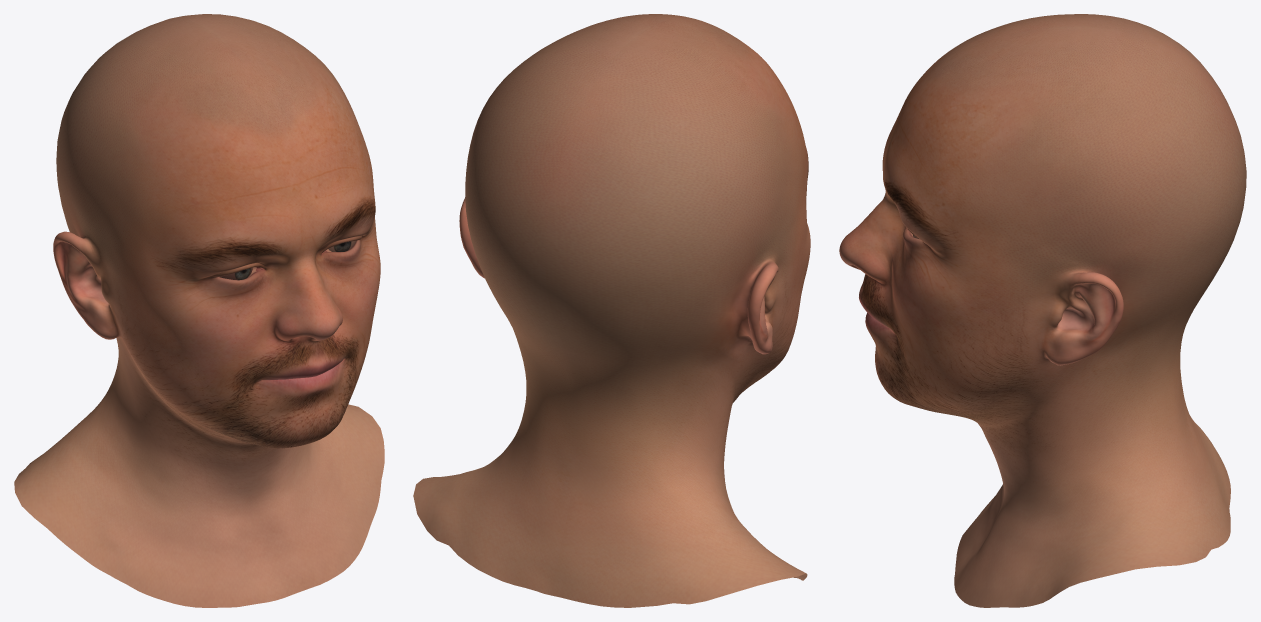
3 renders of one model, left to right at view 1: azimuth 30°, elevation 25°; view 2: azimuth 150°, elevation 25°; view 3: azimuth 270°, elevation 25°, orthographic. The views are drawn at different scales.
Parts seen in each view (by area): view 1: Registered head; view 2: Registered head; view 3: Registered head.
Boxes of the visible parts, x1,y1,x2,y2 form: Registered head: (14,14,384,607); Registered head: (413,14,810,607); Registered head: (839,14,1246,607).
Bounding box in the file's own units: 1.29 × 1.86 × 1.26.
3 materials, 3 textured.
